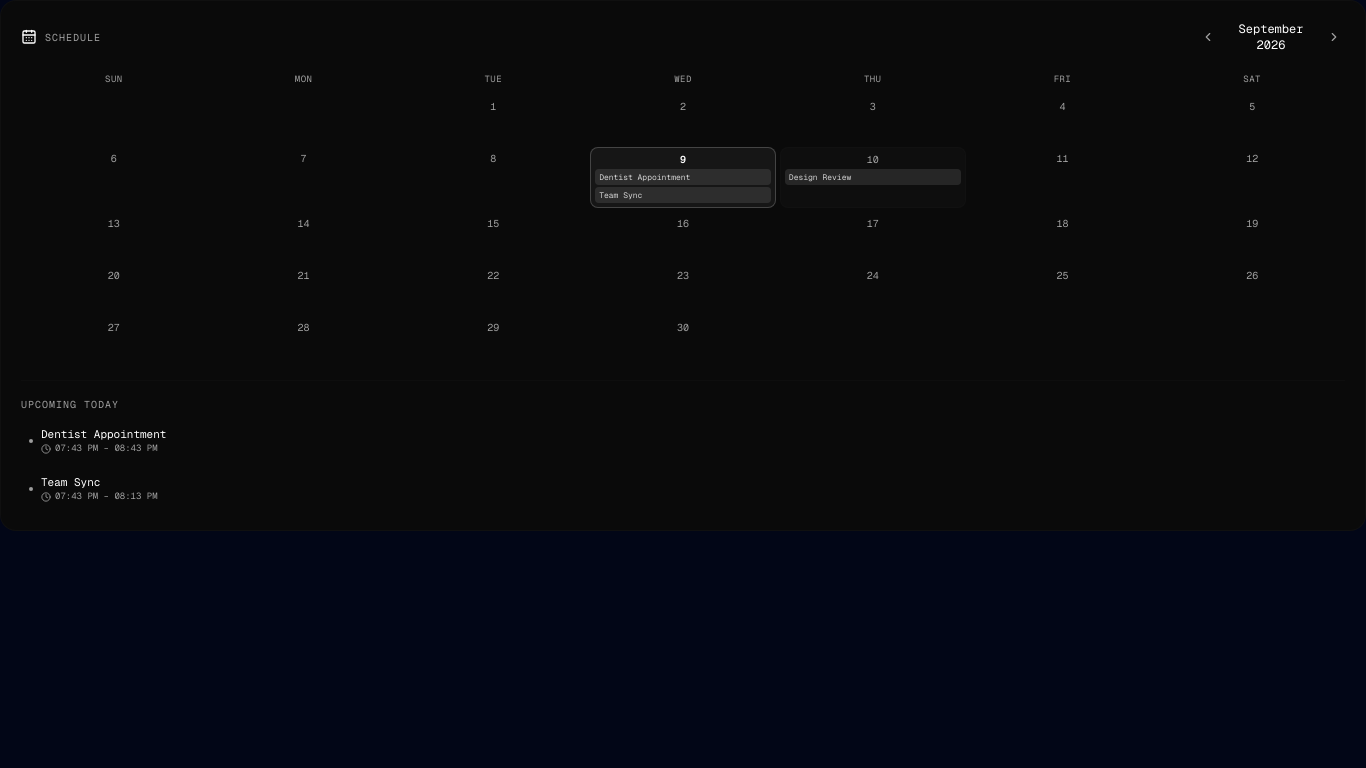
it: Feature 3: Calendar Widget & Modal › T2.5: dismisses event modal when clicking backdrop
Click the element showing "Dentist Appointment Team Sync" at (683, 186), box x1=595 y1=168 x2=771 y2=202
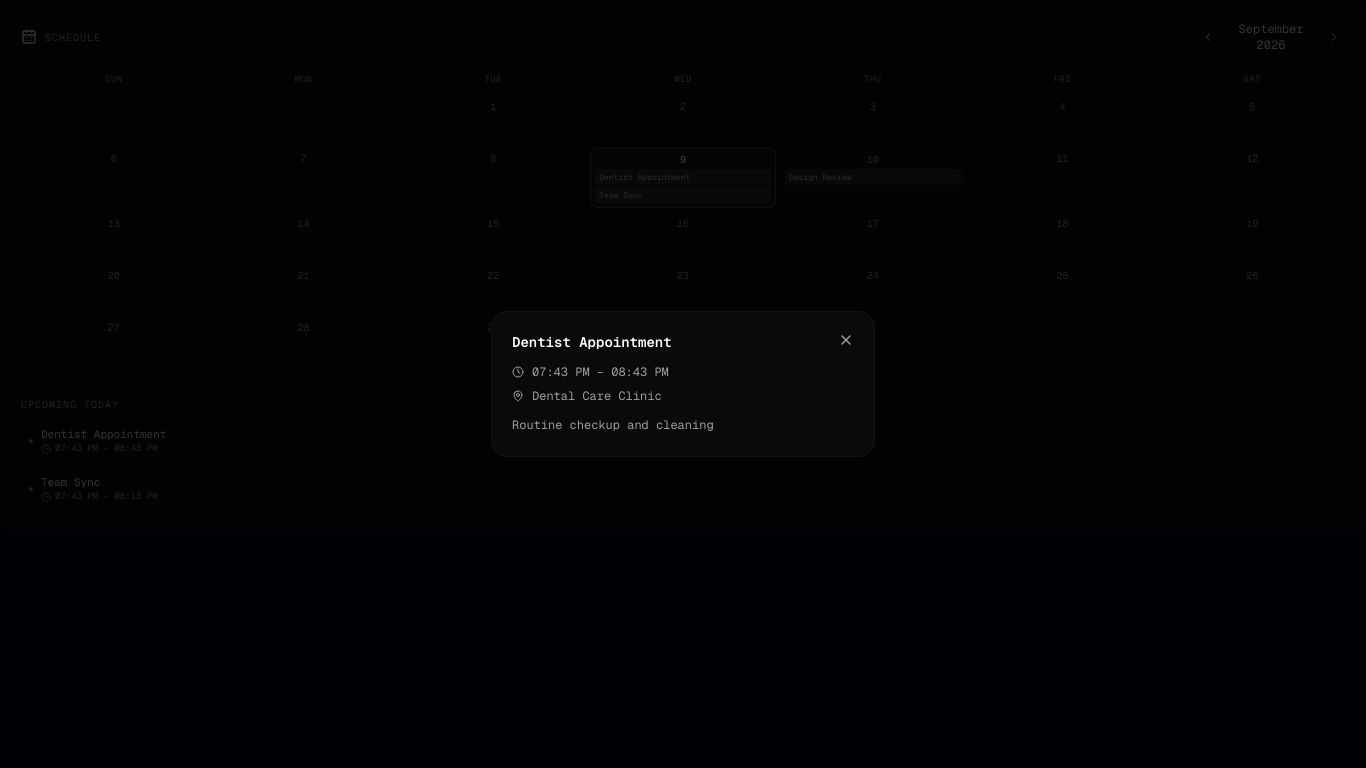
Check: the element with class "inset-0" is shown
Click the element with class "inset-0" at (82, 384), box x1=0 y1=0 x2=1365 y2=767
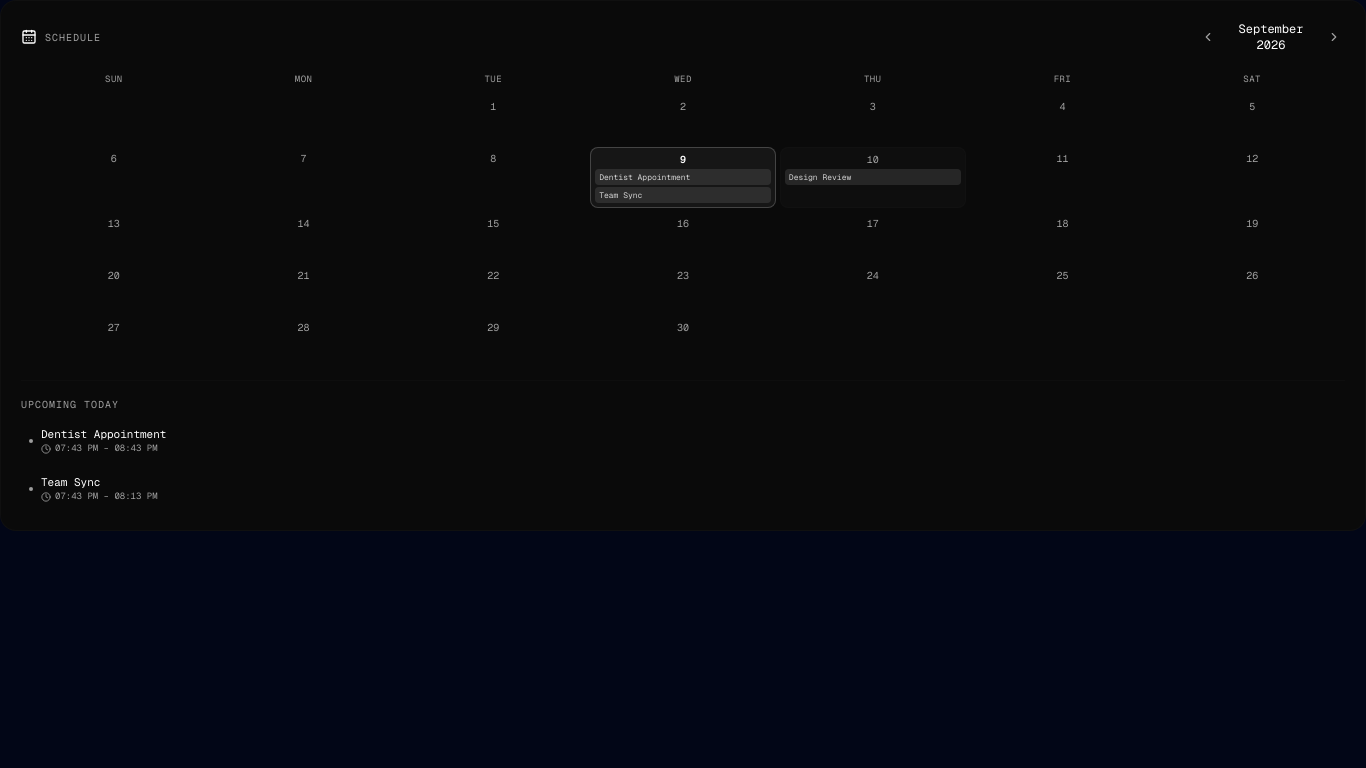
Check: the text "Routine checkup and cleaning" is gone
